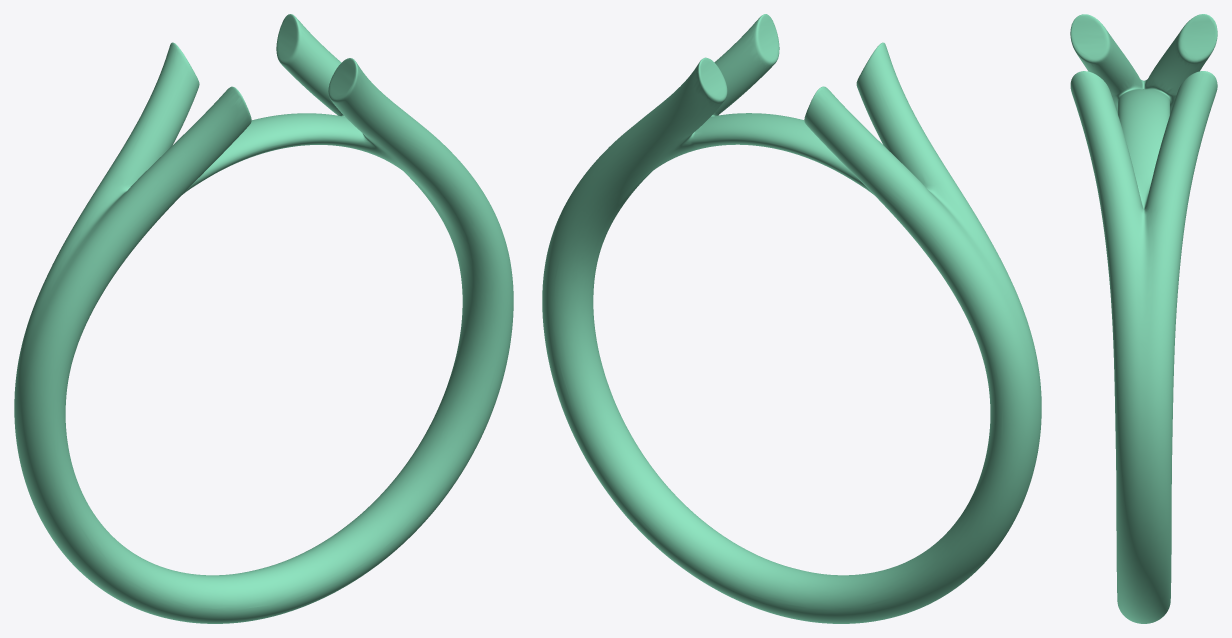
3 views of the same model, side by side, from view 1: azimuth 30°, elevation 25°; view 2: azimuth 150°, elevation 25°; view 3: azimuth 270°, elevation 25° (orthographic).
Visible parts, largest first — view 1: Metal02; view 2: Metal02; view 3: Metal02.
Boxes of the visible parts, x1,y1,x2,y2 form: Metal02: (14, 14, 513, 623); Metal02: (542, 14, 1041, 623); Metal02: (1070, 14, 1217, 623).
Size of the model in its own units: 20.91 by 23.01 by 5.53.
